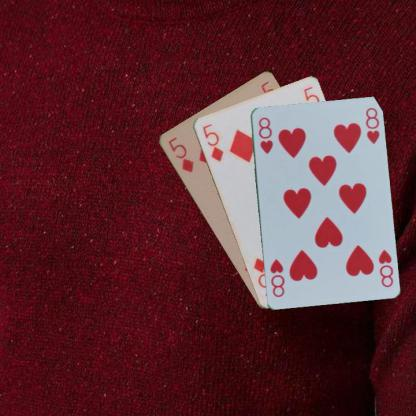5d: (165, 134, 195, 174), (199, 121, 225, 163)
8h: (255, 114, 274, 155), (375, 247, 394, 288)
